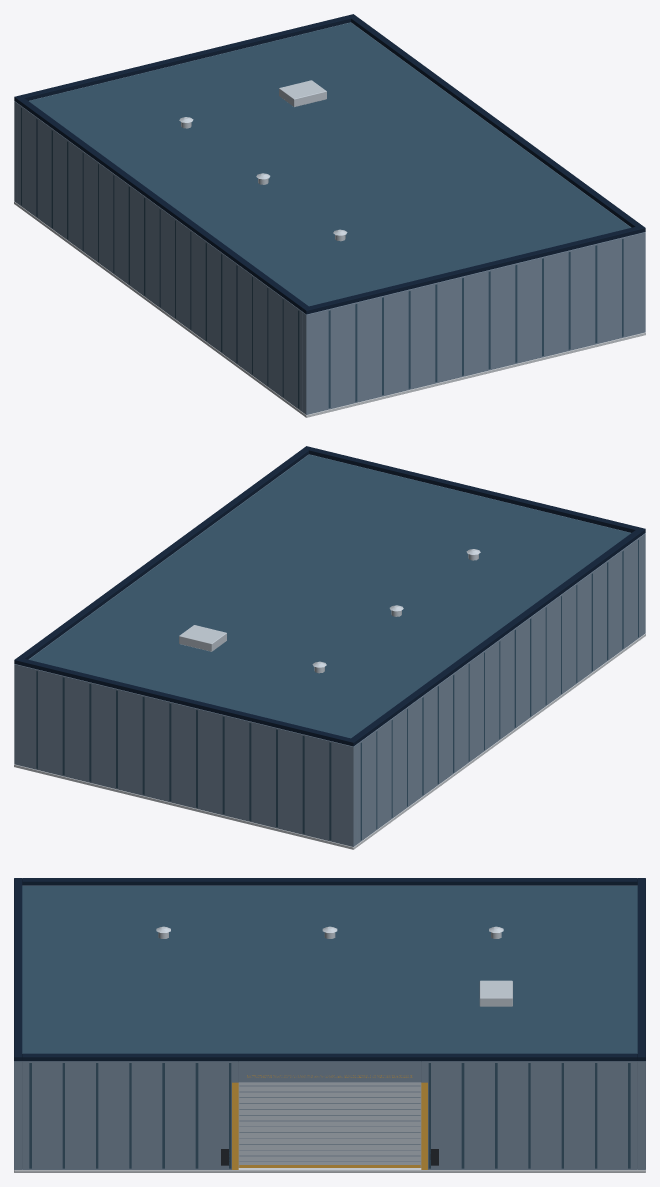
Rendered from CM_Shell_Stockroom.fbx.
3 views of the same model, one above another, from view 1: azimuth 30°, elevation 25°; view 2: azimuth 150°, elevation 25°; view 3: azimuth 270°, elevation 25° (orthographic). The views are drawn at different scales.
Visible parts, largest first — view 1: Roof, Body; view 2: Roof, Body; view 3: Roof, Body, RollUpDoor.
Part boxes in pixels (box(x1,y1,x2,y2)): Roof: box(29, 22, 630, 306); Body: box(14, 14, 645, 417); Roof: box(29, 454, 630, 738); Body: box(14, 446, 645, 849); Roof: box(22, 886, 637, 1053); Body: box(14, 878, 645, 1172); RollUpDoor: box(238, 1082, 421, 1167).
Size of the model in its own units: 51 by 76 by 16.
1 material, 1 textured.
